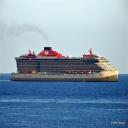cruises: (10, 47, 120, 84)
